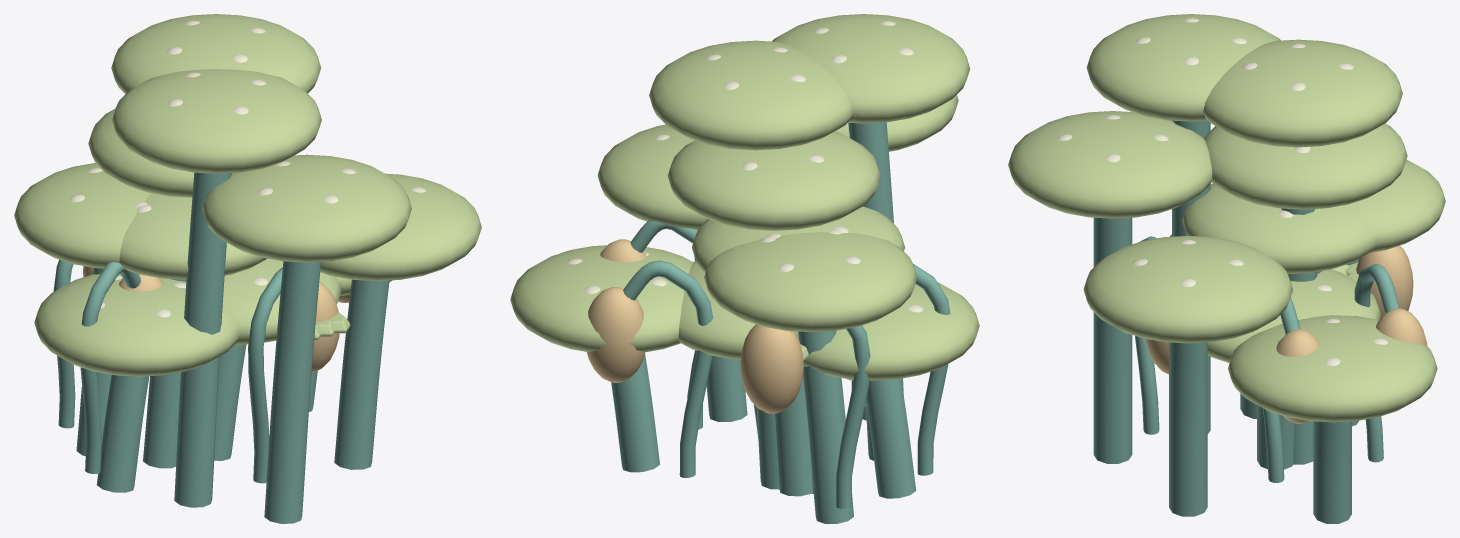
File: bio_spore_fungus_23_near.glb
The picture shows the model from 3 angles, left to right: view 1: azimuth 30°, elevation 25°; view 2: azimuth 150°, elevation 25°; view 3: azimuth 270°, elevation 25°; orthographic projection.
Parts seen in each view (by area): view 1: Thick umbrella cap.007, Thick umbrella cap.002, Thick umbrella cap.004, Thick umbrella cap.003, Curved stipe.007, Curved stipe.002, Thick umbrella cap.001, Thick umbrella cap.005, Curved stipe.005, Thick umbrella cap.009, Curved stipe.004, Thick umbrella cap.006 (+9 smaller); view 2: Thick umbrella cap.003, Thick umbrella cap.001, Thick umbrella cap.006, Thick umbrella cap.007, Thick umbrella cap.008, Thick umbrella cap.004, Thick umbrella cap.005, Curved stipe.001, Pendant spore capsule.001, Curved stipe.004, Arched fruit stem.003, Pendant spore capsule.003 (+12 smaller); view 3: Thick umbrella cap.005, Thick umbrella cap.002, Thick umbrella cap.003, Thick umbrella cap.008, Thick umbrella cap.007, Thick umbrella cap.006, Thick umbrella cap.009, Curved stipe.002, Curved stipe.005, Thick umbrella cap.001, Curved stipe.008, Thick umbrella cap (+10 smaller).
Part boxes in pixels (x1,y1,x2,y2): Thick umbrella cap.007: (112, 69, 321, 173); Thick umbrella cap.002: (202, 154, 411, 262); Thick umbrella cap.004: (34, 274, 239, 376); Thick umbrella cap.003: (111, 14, 320, 93); Curved stipe.007: (174, 172, 231, 507); Curved stipe.002: (264, 261, 320, 523); Thick umbrella cap.001: (14, 163, 150, 268); Thick umbrella cap.005: (320, 173, 481, 280); Curved stipe.005: (334, 279, 389, 469); Thick umbrella cap.009: (119, 193, 266, 279); Curved stipe.004: (96, 374, 149, 492); Thick umbrella cap.006: (88, 108, 194, 197); Thick umbrella cap.003: (649, 40, 852, 150); Thick umbrella cap.001: (704, 232, 917, 332); Thick umbrella cap.006: (667, 131, 880, 230); Thick umbrella cap.007: (772, 14, 970, 123); Thick umbrella cap.008: (510, 245, 692, 352); Thick umbrella cap.004: (794, 282, 979, 380); Thick umbrella cap.005: (597, 124, 707, 229); Curved stipe.001: (798, 330, 853, 523); Pendant spore capsule.001: (740, 324, 803, 413); Curved stipe.004: (866, 378, 916, 498); Arched fruit stem.003: (623, 260, 712, 477); Pendant spore capsule.003: (586, 287, 645, 382); Thick umbrella cap.005: (1083, 235, 1292, 343); Thick umbrella cap.002: (1008, 111, 1212, 218); Thick umbrella cap.003: (1203, 39, 1402, 147); Thick umbrella cap.008: (1228, 315, 1437, 422); Thick umbrella cap.007: (1086, 14, 1280, 121); Thick umbrella cap.006: (1204, 123, 1407, 209); Thick umbrella cap.009: (1182, 183, 1377, 274); Curved stipe.002: (1093, 217, 1132, 463); Curved stipe.005: (1169, 342, 1207, 516); Thick umbrella cap.001: (1349, 159, 1445, 252); Curved stipe.008: (1313, 421, 1351, 523); Thick umbrella cap: (1207, 269, 1380, 362).
Bounding box in the file's own units: 2.01 × 1.97 × 1.92.
